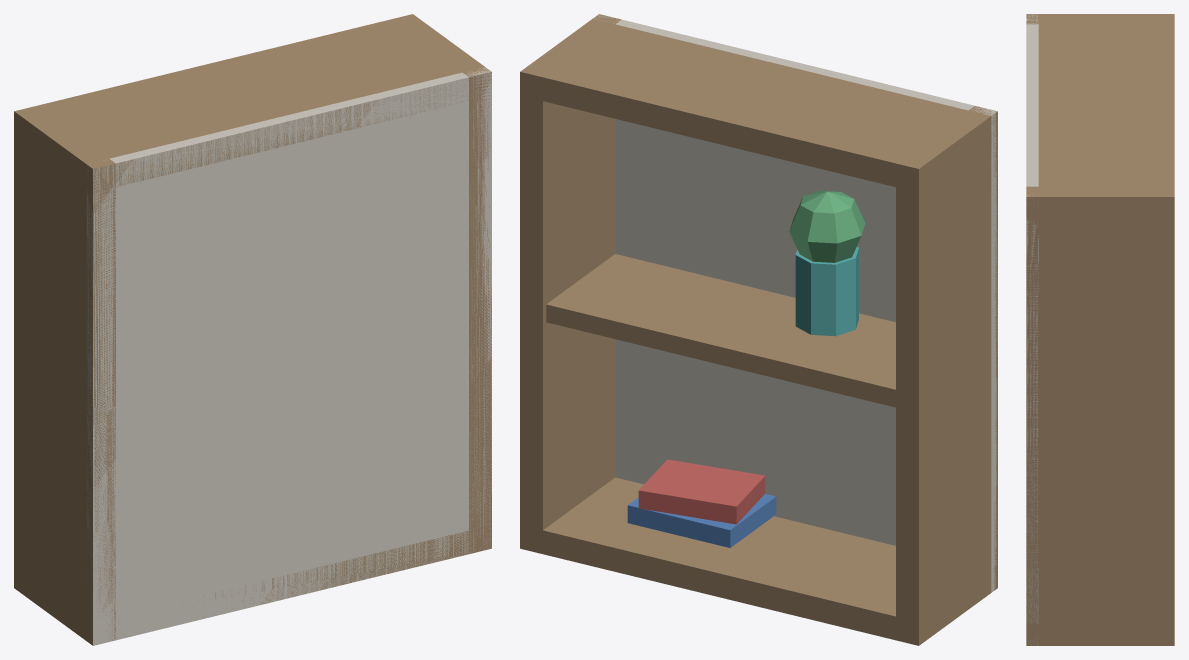
Rendered from parede_nicho_duplo.glb.
The picture shows the model from 3 angles, left to right: view 1: azimuth 30°, elevation 25°; view 2: azimuth 150°, elevation 25°; view 3: azimuth 270°, elevation 25°; orthographic projection. The views are drawn at different scales.
Visible parts, largest first — view 1: PAREDE_NICHO_DUPLO_v01; view 2: PAREDE_NICHO_DUPLO_v01; view 3: PAREDE_NICHO_DUPLO_v01.
Part boxes in pixels (x1,y1,x2,y2): PAREDE_NICHO_DUPLO_v01: (14, 14, 491, 645); PAREDE_NICHO_DUPLO_v01: (520, 14, 997, 645); PAREDE_NICHO_DUPLO_v01: (1026, 14, 1174, 645).
Bounding box in the file's own units: 0.7 × 0.8 × 0.24.
